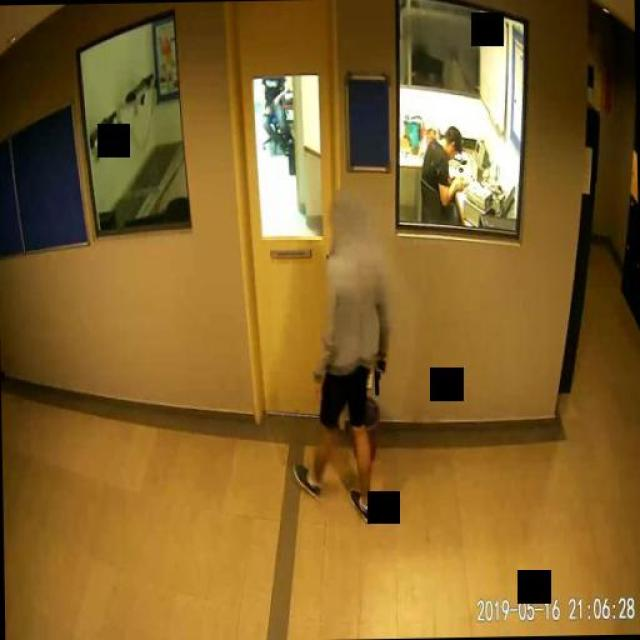gun: (372, 352, 387, 393)
